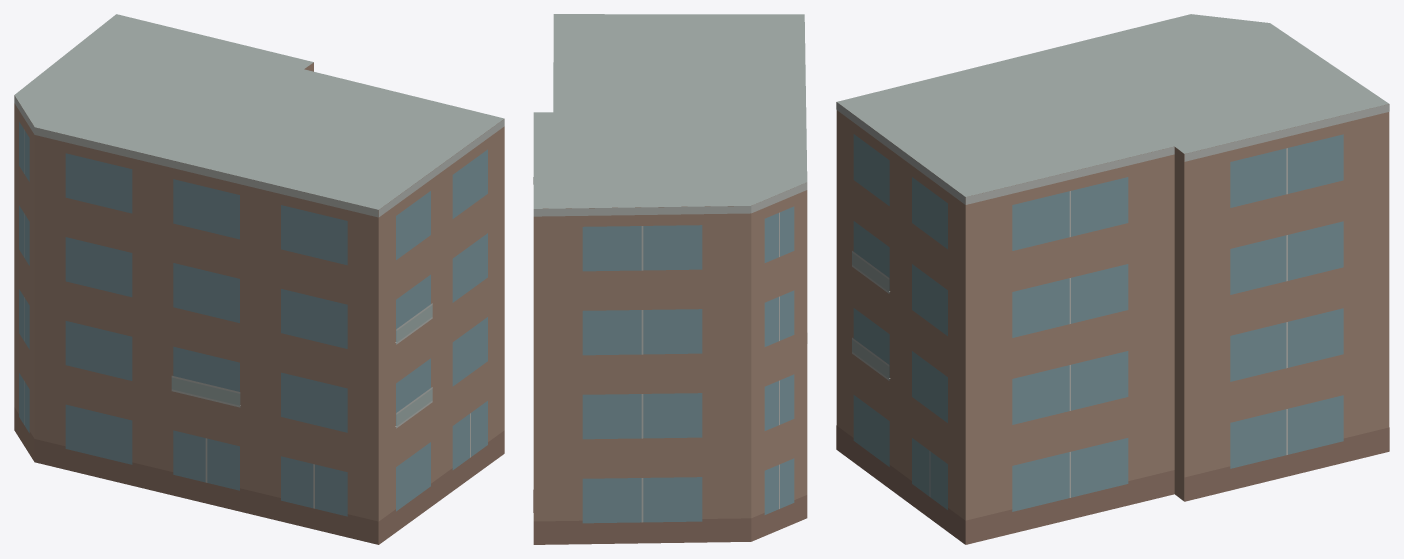
Rendered from survey-upis-32627256.glb.
The picture shows the model from 3 angles, left to right: view 1: azimuth 30°, elevation 25°; view 2: azimuth 150°, elevation 25°; view 3: azimuth 270°, elevation 25°; orthographic projection. The views are drawn at different scales.
Parts seen in each view (by area): view 1: survey-upis-32627256.tmp; view 2: survey-upis-32627256.tmp; view 3: survey-upis-32627256.tmp.
Part boxes in pixels (x1,y1,x2,y2): survey-upis-32627256.tmp: (14, 14, 504, 544); survey-upis-32627256.tmp: (533, 14, 807, 544); survey-upis-32627256.tmp: (836, 14, 1389, 544).
Bounding box in the file's own units: 12.03 × 10.65 × 15.35.
